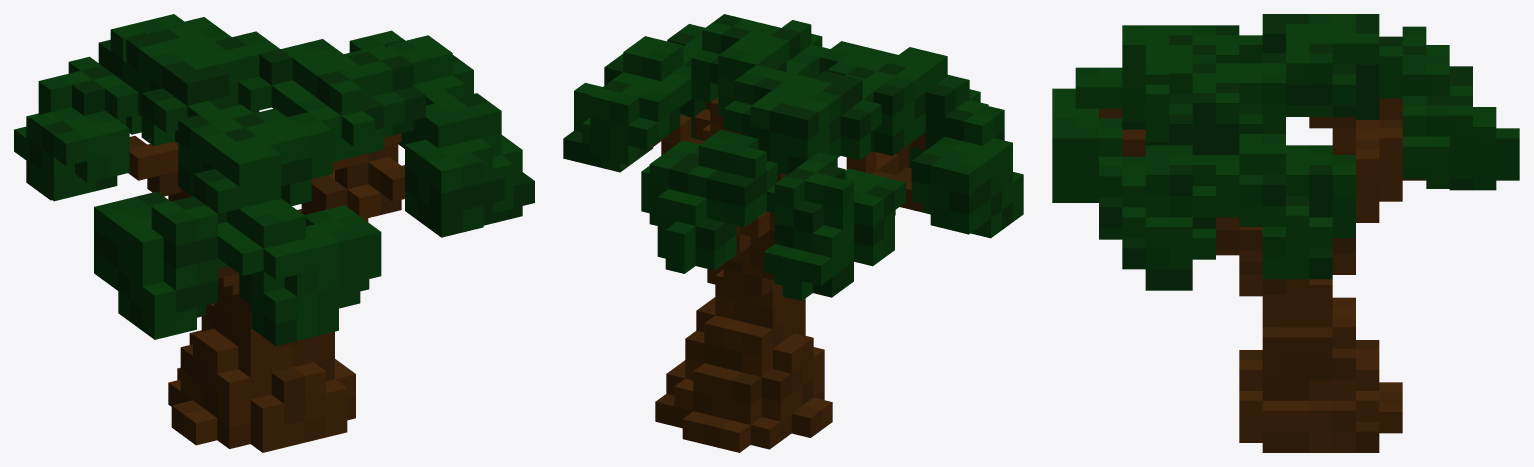
Rendered from Shrub2-2-2.obj.
The picture shows the model from 3 angles, left to right: view 1: azimuth 30°, elevation 25°; view 2: azimuth 150°, elevation 25°; view 3: azimuth 270°, elevation 25°; orthographic projection. The views are drawn at different scales.
Visible parts, largest first — view 1: 2; view 2: 2; view 3: 2.
Boxes of the visible parts, left/top/right/bottom form: 2: left=14, top=14, right=534, bottom=452; 2: left=563, top=14, right=1023, bottom=452; 2: left=1052, top=14, right=1519, bottom=452.
Size of the model in its own units: 3.8 by 3.4 by 4.
Materials: 1 (1 with a texture image).
